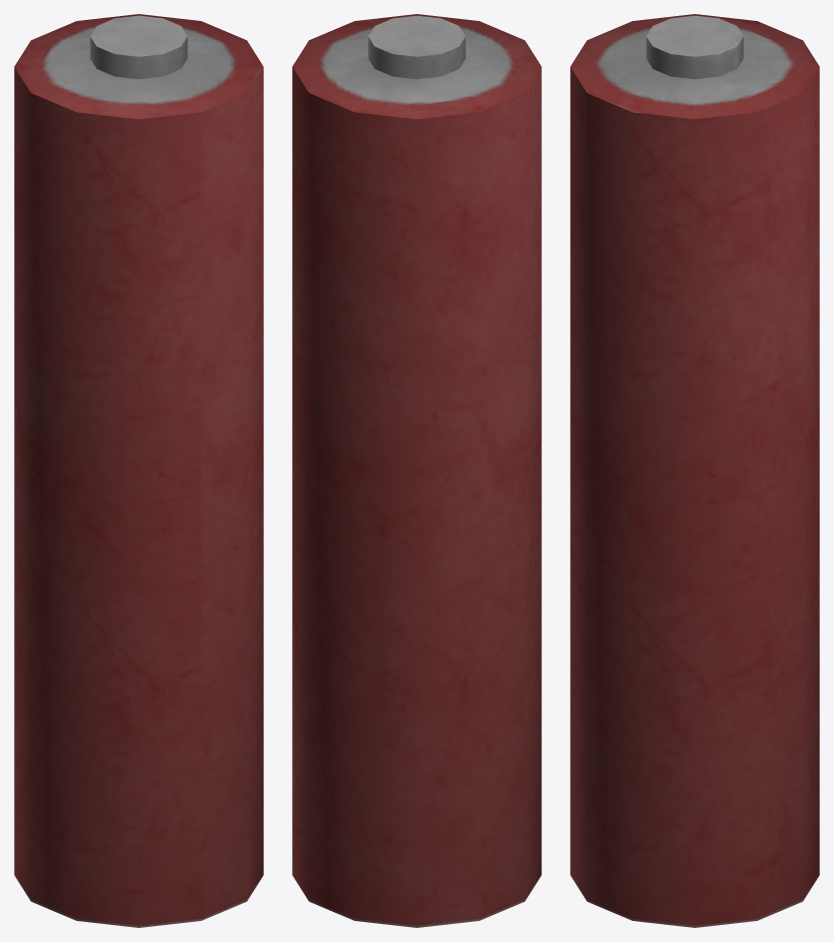
The model's file is Reg_Battery.fbx.
The picture shows the model from 3 angles, left to right: view 1: azimuth 30°, elevation 25°; view 2: azimuth 150°, elevation 25°; view 3: azimuth 270°, elevation 25°; orthographic projection.
Parts seen in each view (by area): view 1: Regular_Battery_low; view 2: Regular_Battery_low; view 3: Regular_Battery_low.
Boxes of the visible parts, box(x1,y1,x2,y2) form: Regular_Battery_low: box(14, 14, 263, 927); Regular_Battery_low: box(292, 14, 541, 927); Regular_Battery_low: box(570, 14, 819, 927).
Bounding box in the file's own units: 24.65 × 92.79 × 24.65.
